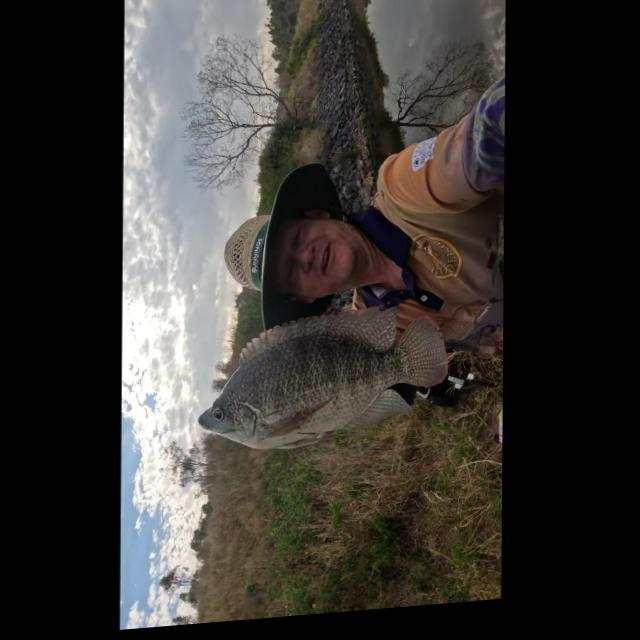Tilapia: (199, 300, 449, 457)
